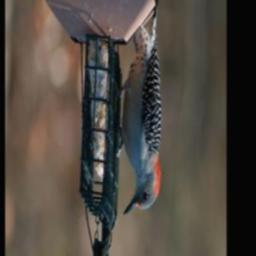Woodpecker: (113, 0, 162, 222)
